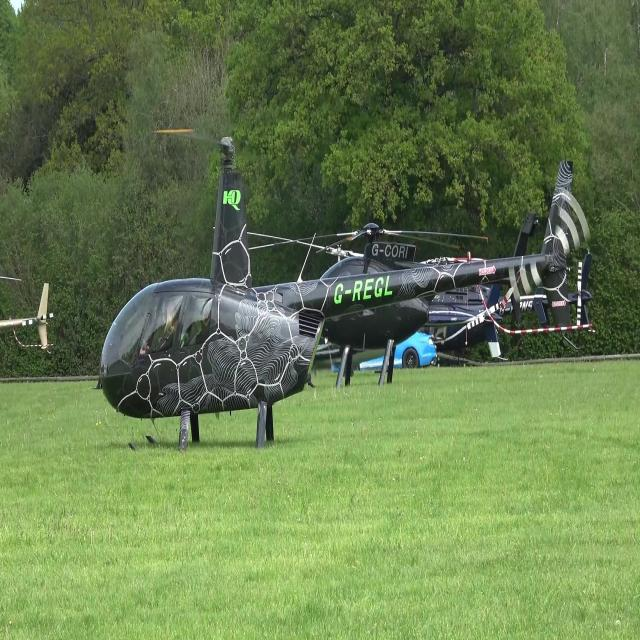CIV_HELO: (93, 135, 579, 471)
